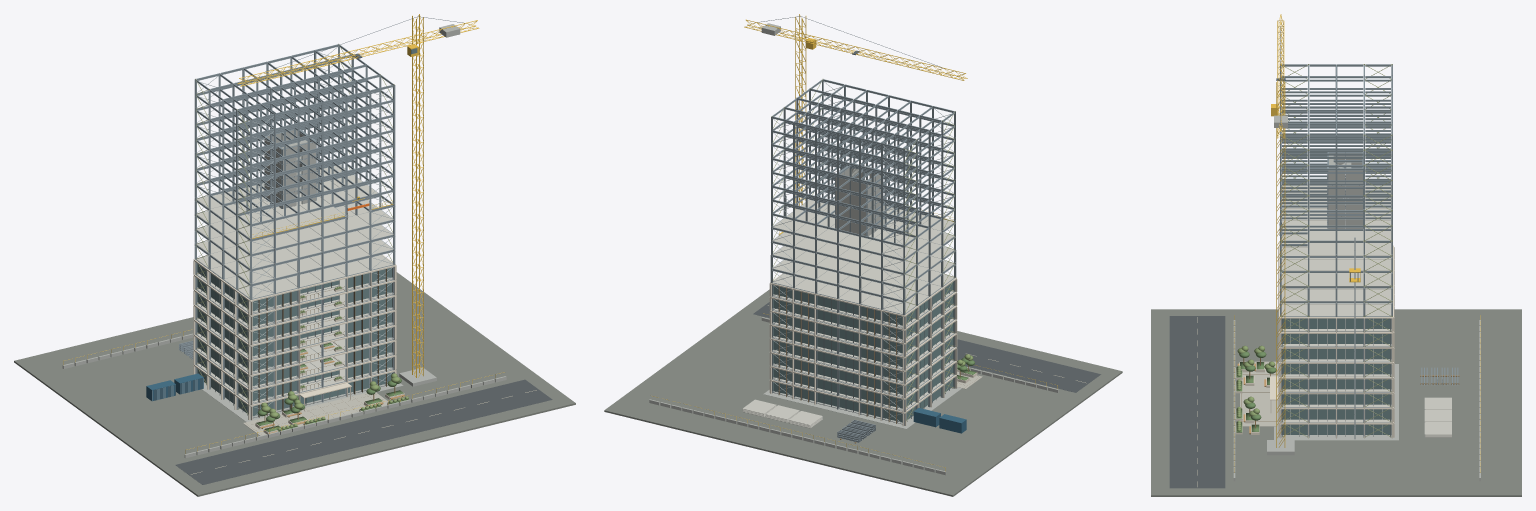
File: tower-site.glb
The picture shows the model from 3 angles, left to right: view 1: azimuth 30°, elevation 25°; view 2: azimuth 150°, elevation 25°; view 3: azimuth 270°, elevation 25°; orthographic projection. The views are drawn at different scales.
Parts seen in each view (by area): view 1: SiteAndFabricationYard_Gravel, SiteAndFabricationYard_Asphalt, TowerCrane_CraneYellow, StructuralSteel_Steel.019, FloorCassettes_Deck.011, StructuralSteel_Steel.018, StructuralSteel_Steel.017, SiteAndFabricationYard_Concrete, StructuralSteel_Steel.016, StructuralSteel_Steel.015, StructuralSteel_Steel.014, StructuralSteel_Steel.013 (+40 smaller); view 2: SiteAndFabricationYard_Gravel, StructuralSteel_Steel.019, SiteAndFabricationYard_Asphalt, FloorCassettes_Deck.011, StructuralSteel_Steel.018, SiteAndFabricationYard_Concrete, StructuralSteel_Steel.017, StructuralSteel_Steel.016, StructuralSteel_Steel.015, TowerCrane_CraneYellow, StructuralSteel_Steel.014, StructuralSteel_Steel.013 (+29 smaller); view 3: SiteAndFabricationYard_Gravel, SiteAndFabricationYard_Asphalt, FloorCassettes_Deck.011, TemporaryYBraces_TemporaryBrace, StructuralSteel_Steel.019, TowerCrane_CraneYellow, StructuralSteel_Steel.017, StructuralSteel_Steel.018, SiteAndFabricationYard_Concrete, StructuralSteel_Steel.016, StructuralSteel_Steel.015, FloorCassettes_Deck.010 (+30 smaller).
Part boxes in pixels (box(x1,y1,x2,y2)): SiteAndFabricationYard_Gravel: box(14, 272, 575, 496); SiteAndFabricationYard_Asphalt: box(175, 379, 552, 484); TowerCrane_CraneYellow: box(237, 14, 479, 377); StructuralSteel_Steel.019: box(194, 44, 395, 134); FloorCassettes_Deck.011: box(196, 165, 377, 238); StructuralSteel_Steel.018: box(194, 60, 395, 149); StructuralSteel_Steel.017: box(194, 75, 395, 164); SiteAndFabricationYard_Concrete: box(62, 332, 506, 458); StructuralSteel_Steel.016: box(194, 90, 395, 179); StructuralSteel_Steel.015: box(194, 105, 395, 194); StructuralSteel_Steel.014: box(194, 120, 395, 209); StructuralSteel_Steel.013: box(194, 135, 395, 224); SiteAndFabricationYard_Gravel: box(604, 289, 1122, 496); StructuralSteel_Steel.019: box(771, 79, 955, 162); SiteAndFabricationYard_Asphalt: box(753, 302, 1100, 392); FloorCassettes_Deck.011: box(772, 199, 953, 258); StructuralSteel_Steel.018: box(771, 93, 955, 176); SiteAndFabricationYard_Concrete: box(649, 317, 1058, 475); StructuralSteel_Steel.017: box(771, 107, 955, 190); StructuralSteel_Steel.016: box(771, 121, 955, 204); StructuralSteel_Steel.015: box(771, 135, 955, 218); TowerCrane_CraneYellow: box(744, 14, 967, 209); StructuralSteel_Steel.014: box(771, 149, 955, 231); StructuralSteel_Steel.013: box(771, 162, 955, 245); SiteAndFabricationYard_Gravel: box(1151, 309, 1521, 496); SiteAndFabricationYard_Asphalt: box(1169, 316, 1225, 488); FloorCassettes_Deck.011: box(1281, 185, 1391, 255); TemporaryYBraces_TemporaryBrace: box(1280, 64, 1392, 437); StructuralSteel_Steel.019: box(1280, 64, 1392, 150); TowerCrane_CraneYellow: box(1271, 14, 1285, 447); StructuralSteel_Steel.017: box(1280, 94, 1392, 180); StructuralSteel_Steel.018: box(1280, 79, 1392, 165); SiteAndFabricationYard_Concrete: box(1233, 320, 1480, 481); StructuralSteel_Steel.016: box(1280, 109, 1392, 195); StructuralSteel_Steel.015: box(1280, 125, 1392, 210); FloorCassettes_Deck.010: box(1281, 233, 1391, 270).
Bounding box in the file's own units: 95 × 87.43 × 80.
